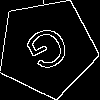G: (22, 23, 78, 82)
